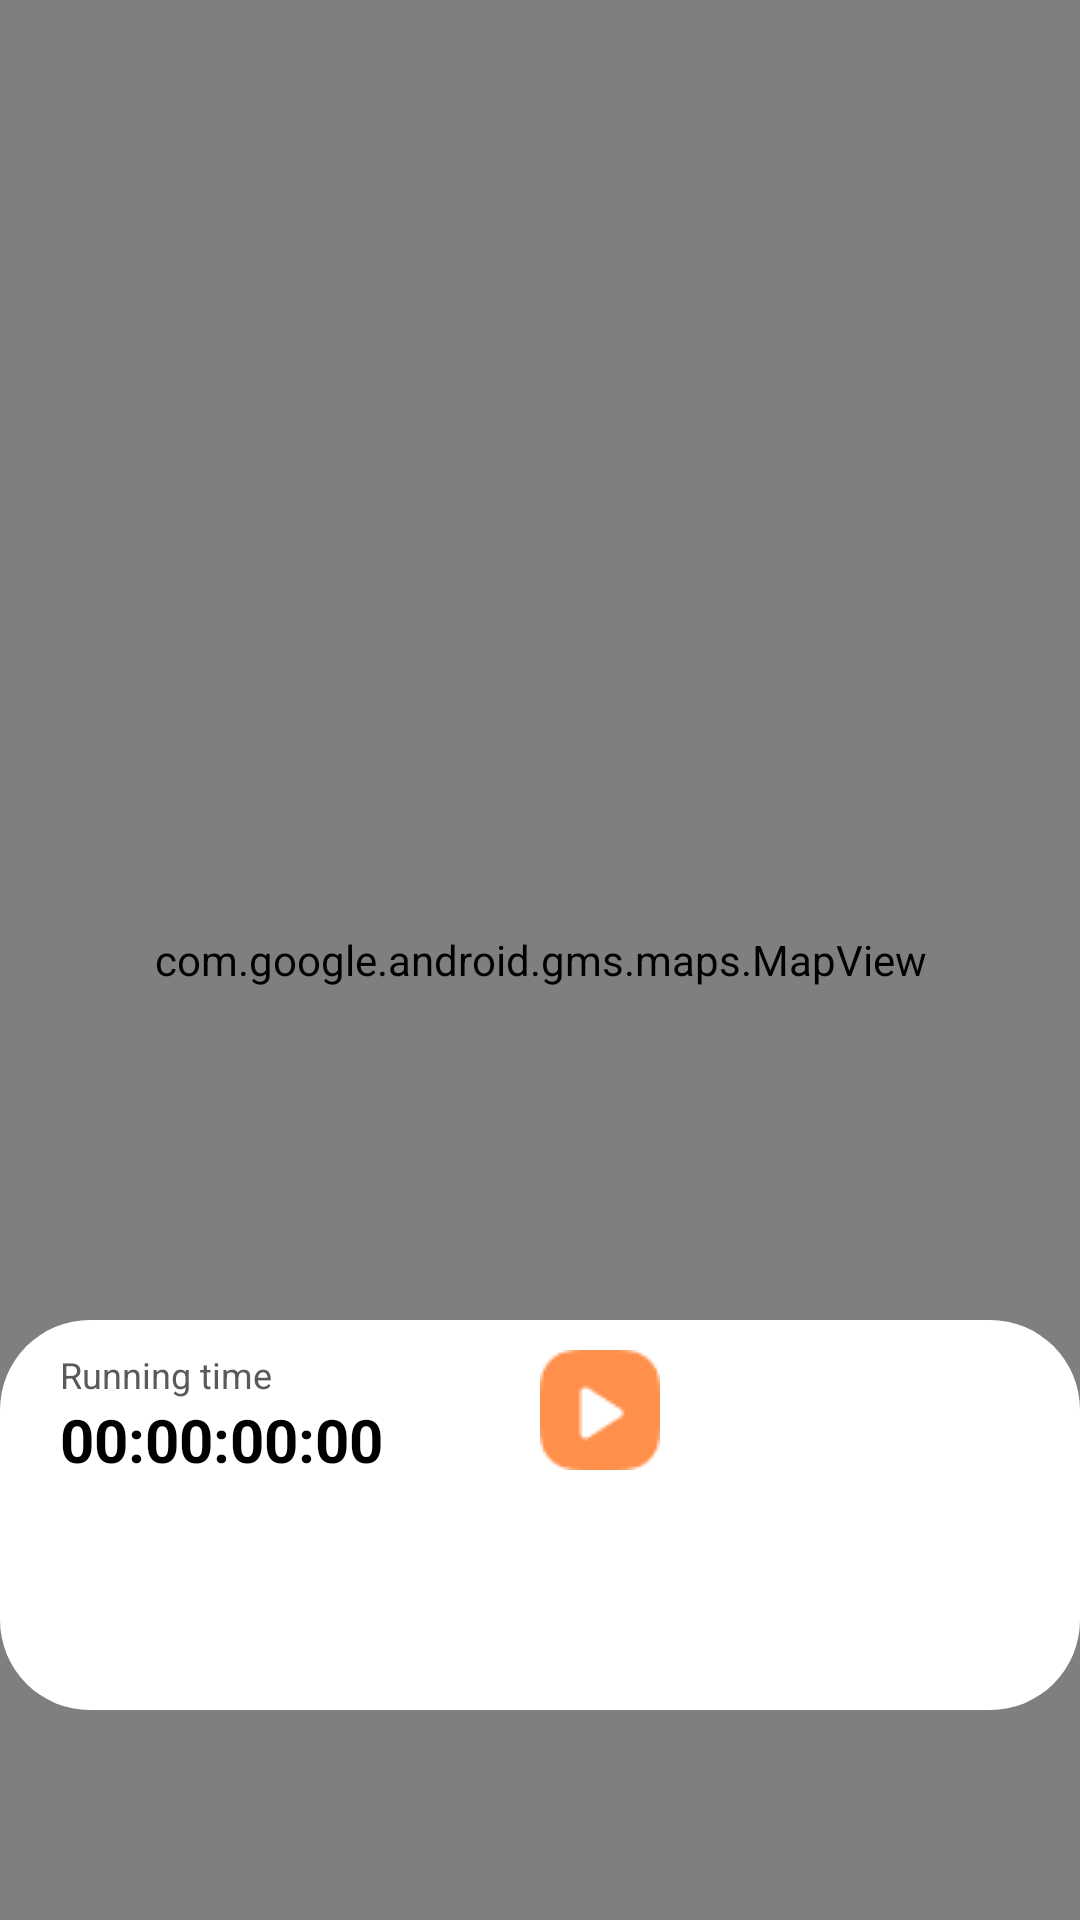

Point at icon controls on the screen. Image size 1080w x 1920h, points as point (x, y).
start: point (600, 1410)
